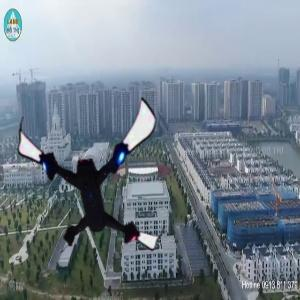drone: (9, 98, 169, 258)
